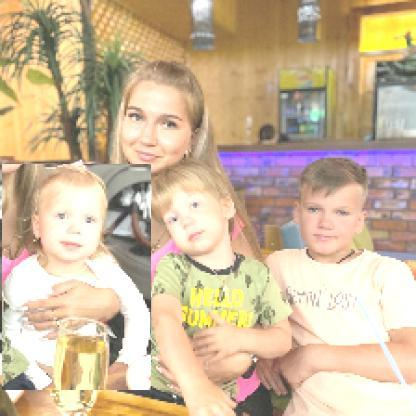child: (118, 161, 297, 416), (3, 165, 153, 392)
